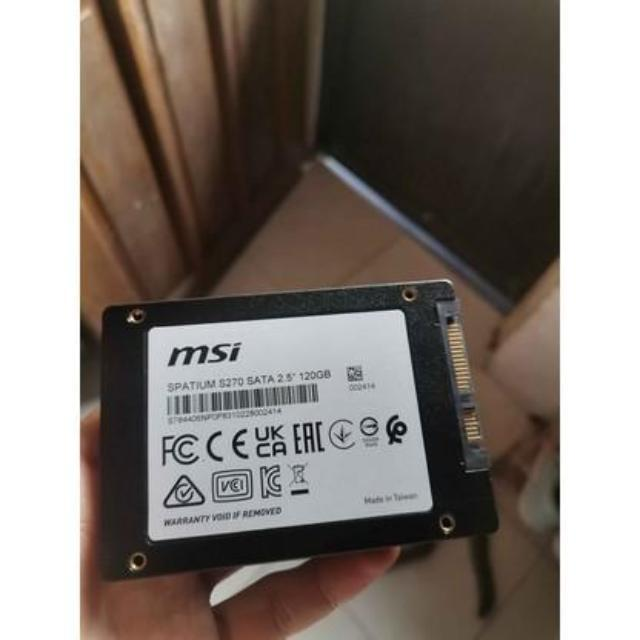DISK: (94, 274, 503, 588)
